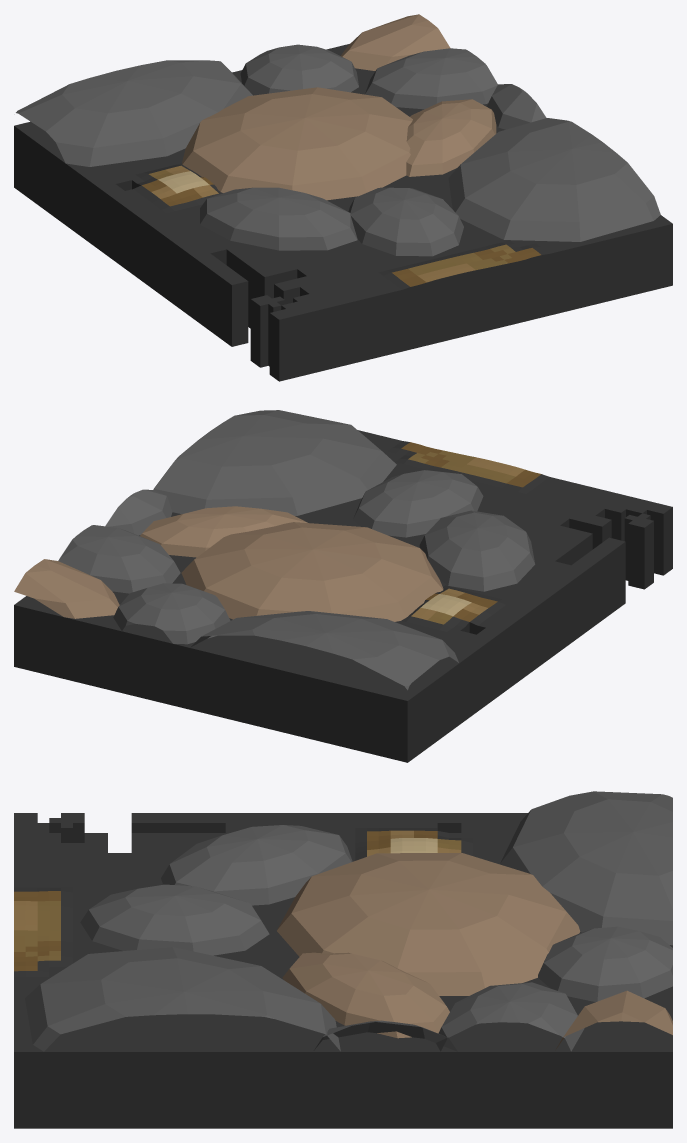
3 views of the same model, one above another, from view 1: azimuth 30°, elevation 25°; view 2: azimuth 150°, elevation 25°; view 3: azimuth 270°, elevation 25° (orthographic). The views are drawn at different scales.
Visible parts, largest first — view 1: shapesz-t133; view 2: shapesz-t133; view 3: shapesz-t133.
Part boxes in pixels (x1,y1,x2,y2): shapesz-t133: [14, 14, 672, 381]; shapesz-t133: [14, 410, 672, 762]; shapesz-t133: [14, 791, 672, 1128].
Bounding box in the file's own units: 2 × 0.458 × 2.33.
